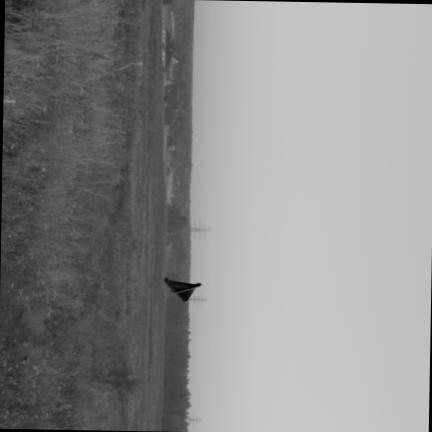Shahed: (164, 279, 199, 301)
